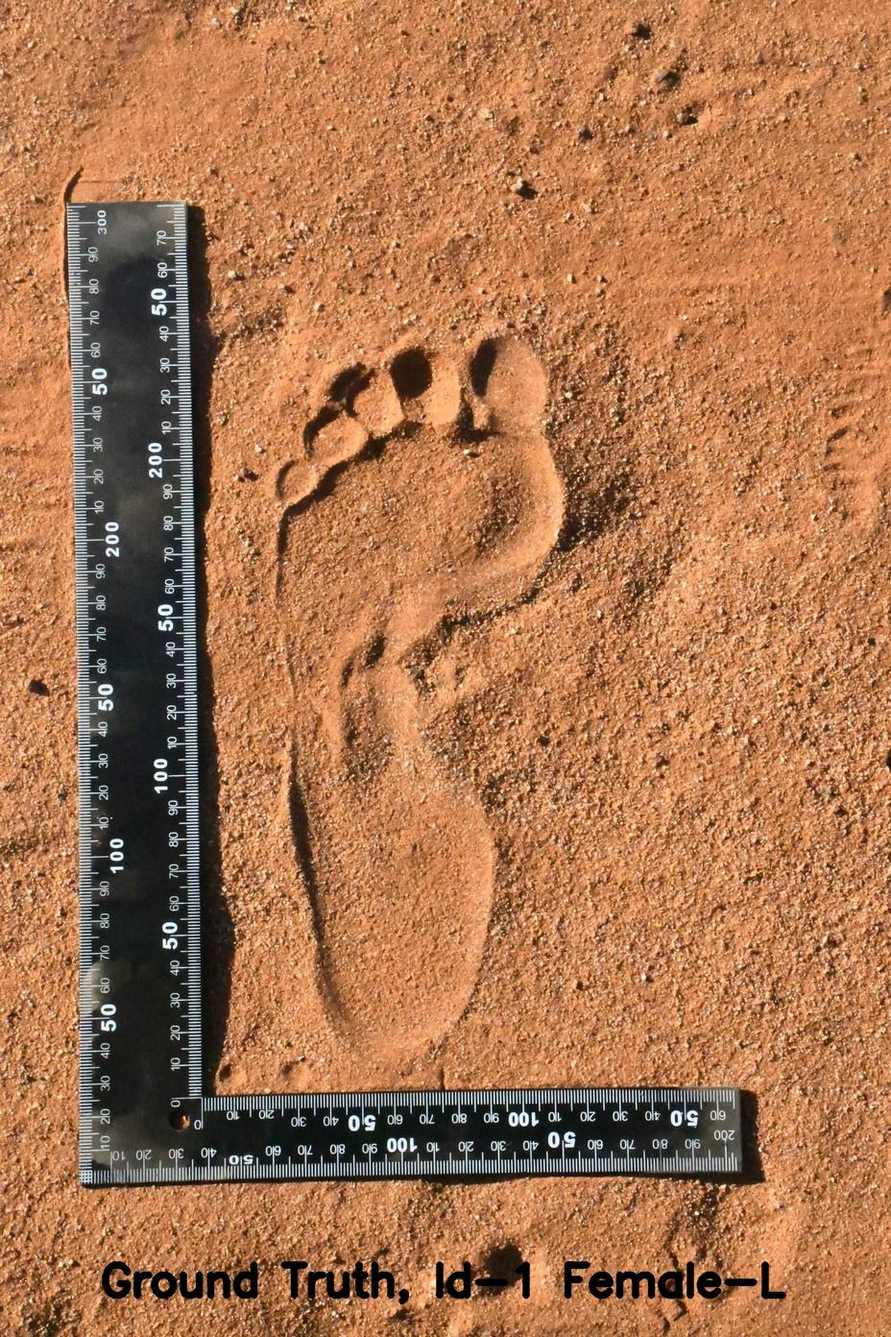human_footprint: (234, 247, 628, 1079)
